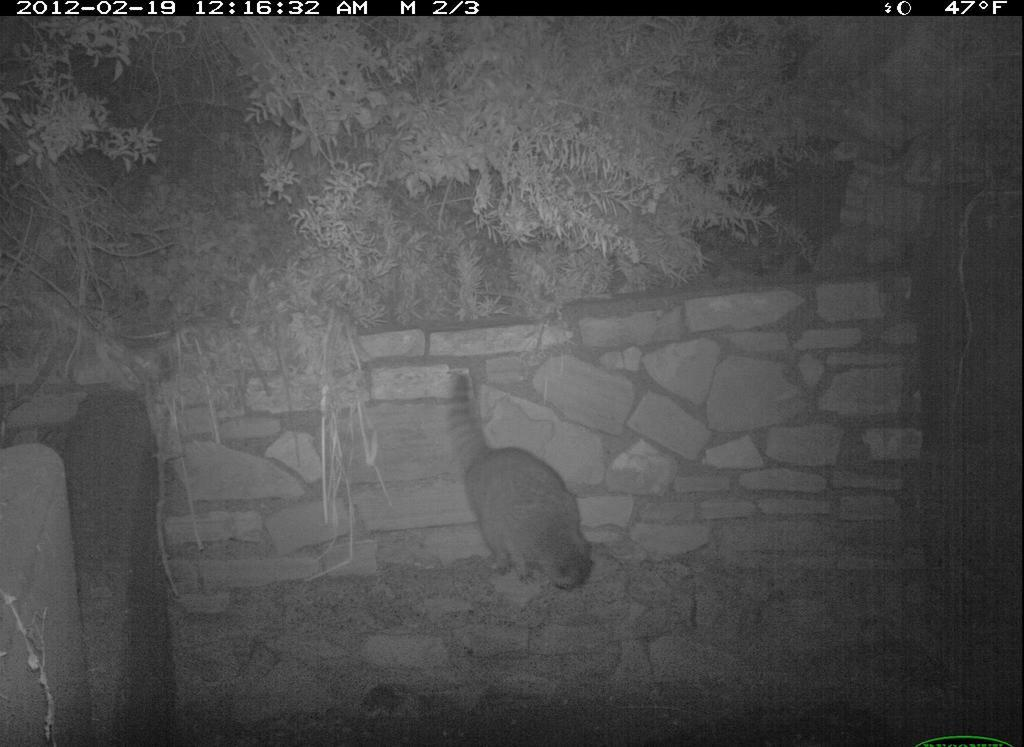raccoon: (438, 370, 619, 630)
